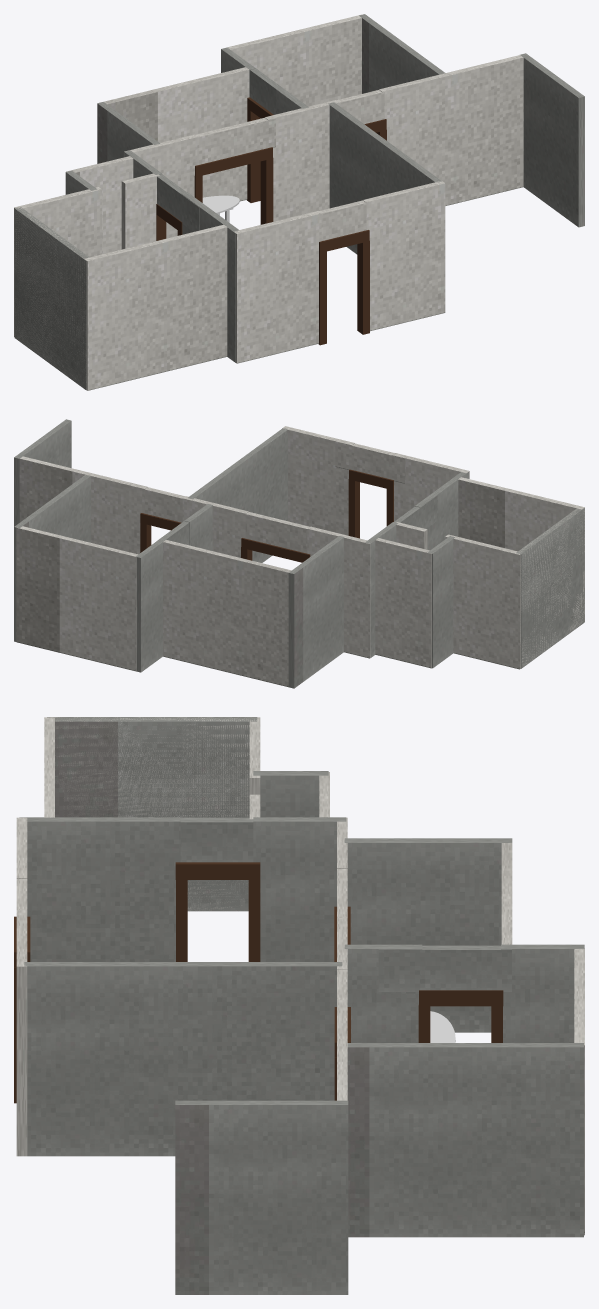
File: wall new new new.fbx
3 views of the same model, one above another, from view 1: azimuth 30°, elevation 25°; view 2: azimuth 150°, elevation 25°; view 3: azimuth 270°, elevation 25° (orthographic). The views are drawn at different scales.
Parts seen in each view (by area): view 1: Cube.025, Cube.014, Cube.003, Cube.001, Cube.002, Cube.023, Cube.017, Cube.015, Cube.011, Cube.007, Cube.016, Cube.020 (+18 smaller); view 2: Cube.017, Cube.015, Cube.020, Cube.002, Cube.026, Cube.018, Cube.014, Cube.025, Cube.001, Cube.011, Cube.005, Cube.013 (+18 smaller); view 3: Cube.011, Cube.016, Cube.023, Cube.008, Cube.002, Cube.018, Cube.004, Cube.030, Cube.013, Cube.033, Cube.012, Cube.006 (+11 smaller).
Part boxes in pixels (x1,y1,x2,y2): Cube.025: [84, 224, 227, 390]; Cube.014: [378, 55, 523, 205]; Cube.003: [234, 211, 321, 363]; Cube.001: [363, 181, 445, 331]; Cube.002: [14, 207, 89, 390]; Cube.023: [520, 53, 584, 227]; Cube.017: [104, 67, 249, 201]; Cube.015: [227, 14, 361, 106]; Cube.011: [328, 102, 442, 254]; Cube.007: [264, 100, 339, 221]; Cube.016: [359, 14, 445, 93]; Cube.020: [14, 187, 101, 336]; Cube.017: [163, 540, 291, 687]; Cube.015: [16, 526, 138, 671]; Cube.020: [445, 534, 520, 669]; Cube.002: [516, 508, 584, 668]; Cube.026: [375, 538, 431, 668]; Cube.018: [288, 536, 344, 688]; Cube.014: [19, 456, 147, 554]; Cube.025: [458, 477, 584, 621]; Cube.001: [282, 426, 354, 535]; Cube.011: [188, 428, 287, 562]; Cube.005: [307, 526, 370, 658]; Cube.013: [136, 538, 165, 672]; Cube.011: [24, 962, 342, 1156]; Cube.016: [347, 1043, 583, 1237]; Cube.023: [175, 1100, 348, 1294]; Cube.008: [19, 817, 180, 961]; Cube.002: [47, 717, 257, 911]; Cube.018: [344, 838, 512, 1032]; Cube.004: [253, 817, 346, 961]; Cube.030: [52, 717, 256, 911]; Cube.013: [501, 944, 584, 1042]; Cube.033: [378, 945, 511, 991]; Cube.012: [344, 944, 422, 1042]; Cube.006: [175, 862, 260, 961].
Bounding box in the file's own units: 1457 × 335 × 906.
10 materials, 8 textured.
